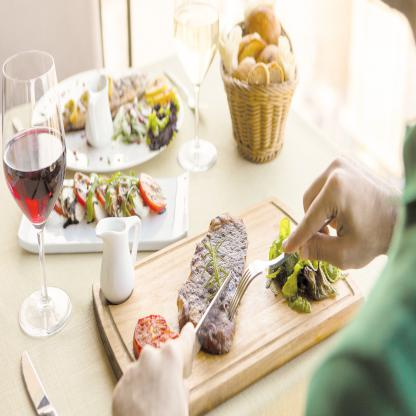Carne: (180, 202, 250, 350)
